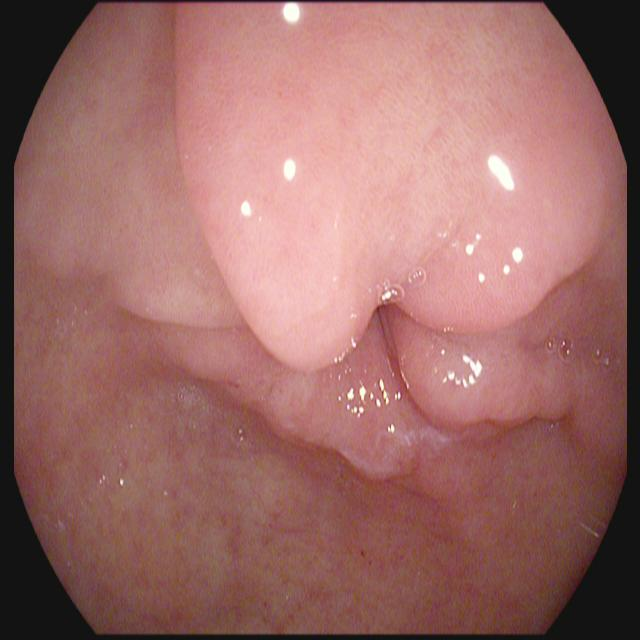normal-pylorus: (124, 0, 626, 495)
